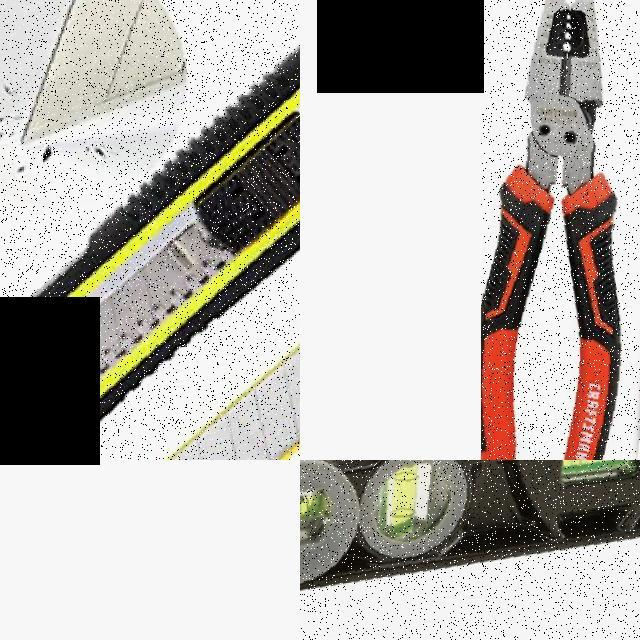estilete: (35, 51, 298, 418)
